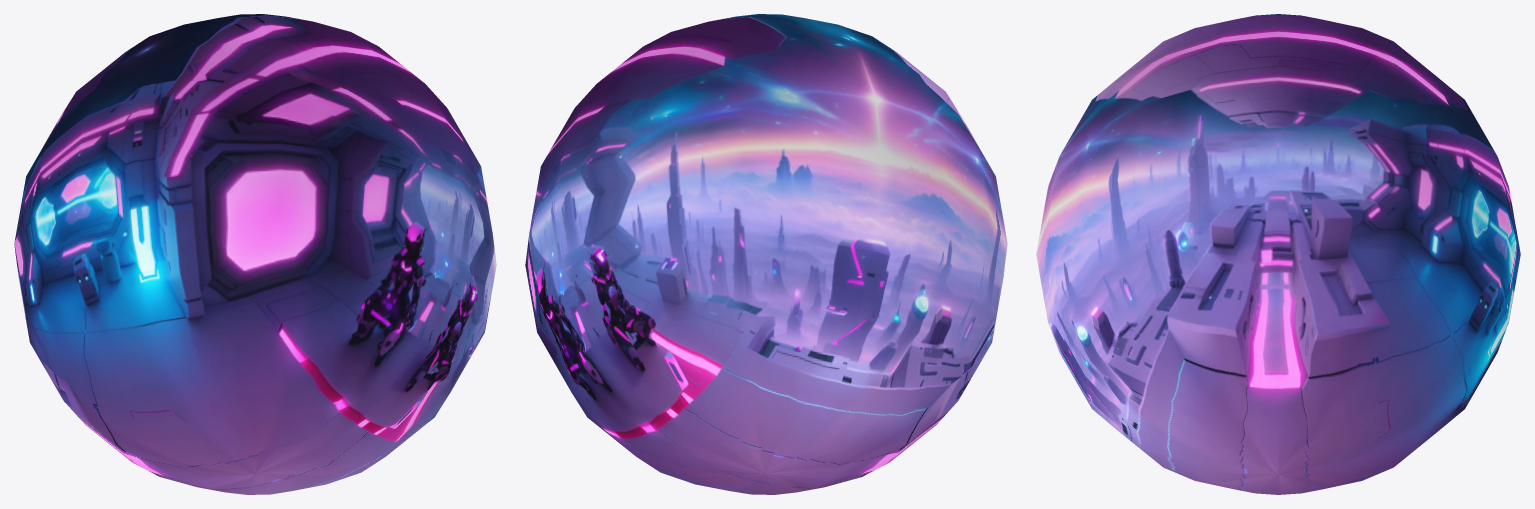
File: pinkspaceroom.glb
3 renders of one model, left to right at view 1: azimuth 30°, elevation 25°; view 2: azimuth 150°, elevation 25°; view 3: azimuth 270°, elevation 25°, orthographic.
Parts seen in each view (by area): view 1: Skybox; view 2: Skybox; view 3: Skybox.
Part boxes in pixels (bbox=[...]): Skybox: bbox=[14, 14, 496, 494]; Skybox: bbox=[525, 14, 1007, 494]; Skybox: bbox=[1036, 14, 1520, 494].
Size of the model in its own units: 500 by 500 by 500.
1 material, 1 textured.
